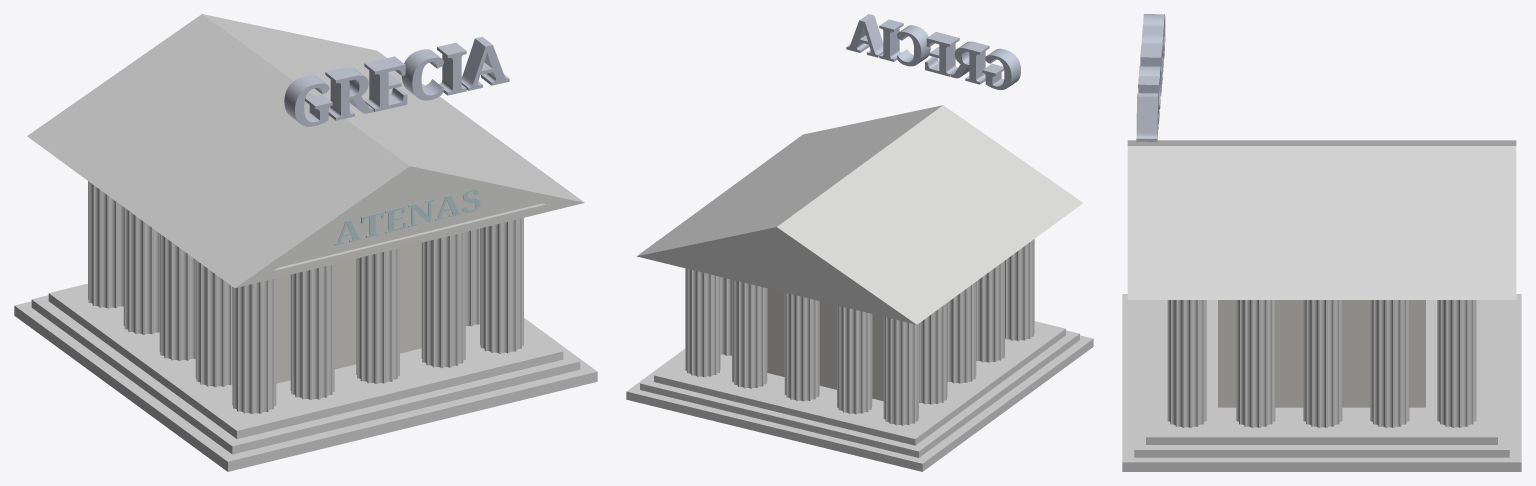
Rendered from Grecia.glb.
3 views of the same model, side by side, from view 1: azimuth 30°, elevation 25°; view 2: azimuth 150°, elevation 25°; view 3: azimuth 270°, elevation 25° (orthographic). The views are drawn at different scales.
Visible parts, largest first — view 1: Mesh_Mesh_head_geo.001_lambert2SG.001; view 2: Mesh_Mesh_head_geo.001_lambert2SG.001; view 3: Mesh_Mesh_head_geo.001_lambert2SG.001.
Boxes of the visible parts, box(x1,y1,x2,y2) form: Mesh_Mesh_head_geo.001_lambert2SG.001: box(14, 14, 597, 471); Mesh_Mesh_head_geo.001_lambert2SG.001: box(626, 14, 1093, 471); Mesh_Mesh_head_geo.001_lambert2SG.001: box(1122, 14, 1521, 471).
Bounding box in the file's own units: 0.19 × 0.1744 × 0.19.
